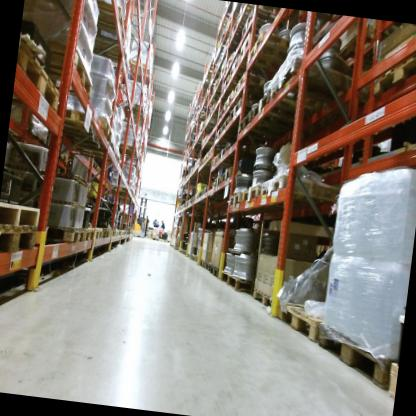forklift: (132, 191, 152, 241)
pallet: (263, 54, 367, 128), (311, 324, 392, 400), (271, 274, 350, 348), (11, 35, 70, 125), (365, 32, 416, 114), (256, 167, 344, 212), (250, 86, 320, 136), (52, 107, 115, 159), (37, 43, 99, 95), (239, 110, 322, 148), (251, 277, 319, 322), (246, 26, 297, 79), (87, 29, 137, 72), (88, 0, 131, 44), (232, 69, 274, 112), (29, 221, 87, 252), (0, 224, 41, 260), (238, 7, 279, 42), (0, 194, 42, 226), (217, 271, 262, 297), (211, 126, 253, 151), (234, 4, 281, 26), (384, 350, 400, 406), (122, 52, 155, 78), (87, 133, 116, 162), (229, 53, 253, 87), (228, 98, 255, 128), (219, 161, 245, 191), (220, 37, 249, 63), (239, 176, 261, 207), (113, 136, 141, 160), (215, 62, 242, 85), (119, 99, 150, 119), (123, 70, 152, 90), (221, 53, 244, 78), (238, 36, 255, 66), (210, 77, 235, 96), (108, 181, 133, 199), (215, 143, 236, 164), (101, 146, 121, 167), (221, 84, 236, 112), (218, 113, 232, 140), (208, 101, 224, 123), (85, 225, 104, 243), (197, 159, 219, 174), (79, 224, 95, 243), (220, 73, 231, 100), (207, 144, 221, 164), (227, 20, 238, 44), (227, 189, 242, 206), (223, 11, 235, 32), (211, 171, 224, 190), (197, 254, 209, 274), (209, 261, 221, 279), (87, 153, 98, 170), (207, 153, 219, 168), (215, 109, 226, 125), (97, 228, 111, 240), (192, 252, 203, 267), (93, 161, 103, 176), (205, 260, 213, 276), (106, 227, 116, 239), (196, 187, 203, 202), (159, 236, 171, 244), (202, 184, 209, 197), (201, 151, 208, 164), (187, 253, 197, 260), (182, 247, 189, 256), (202, 133, 209, 142), (193, 190, 198, 201), (151, 236, 160, 242), (169, 244, 178, 250), (114, 229, 119, 237), (118, 227, 122, 236)
small_load_carrier: (157, 229, 163, 237)
